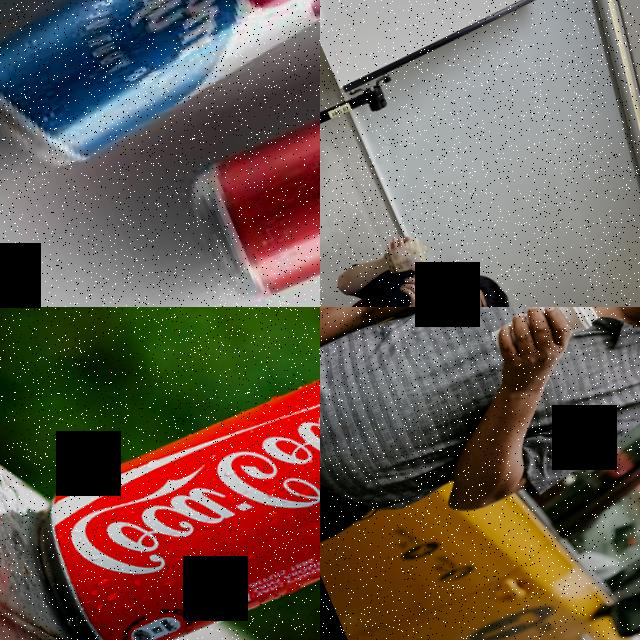can: (11, 326, 320, 640), (0, 0, 320, 192), (179, 46, 320, 307)
cup: (480, 307, 603, 369), (379, 232, 431, 284)
